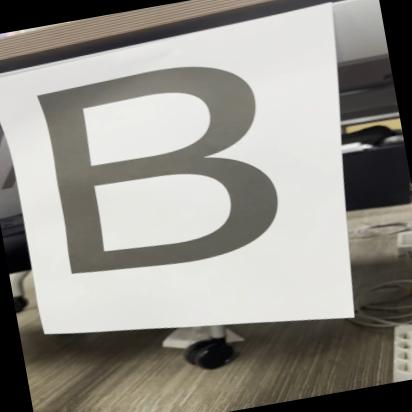seat: (24, 42, 320, 293)
